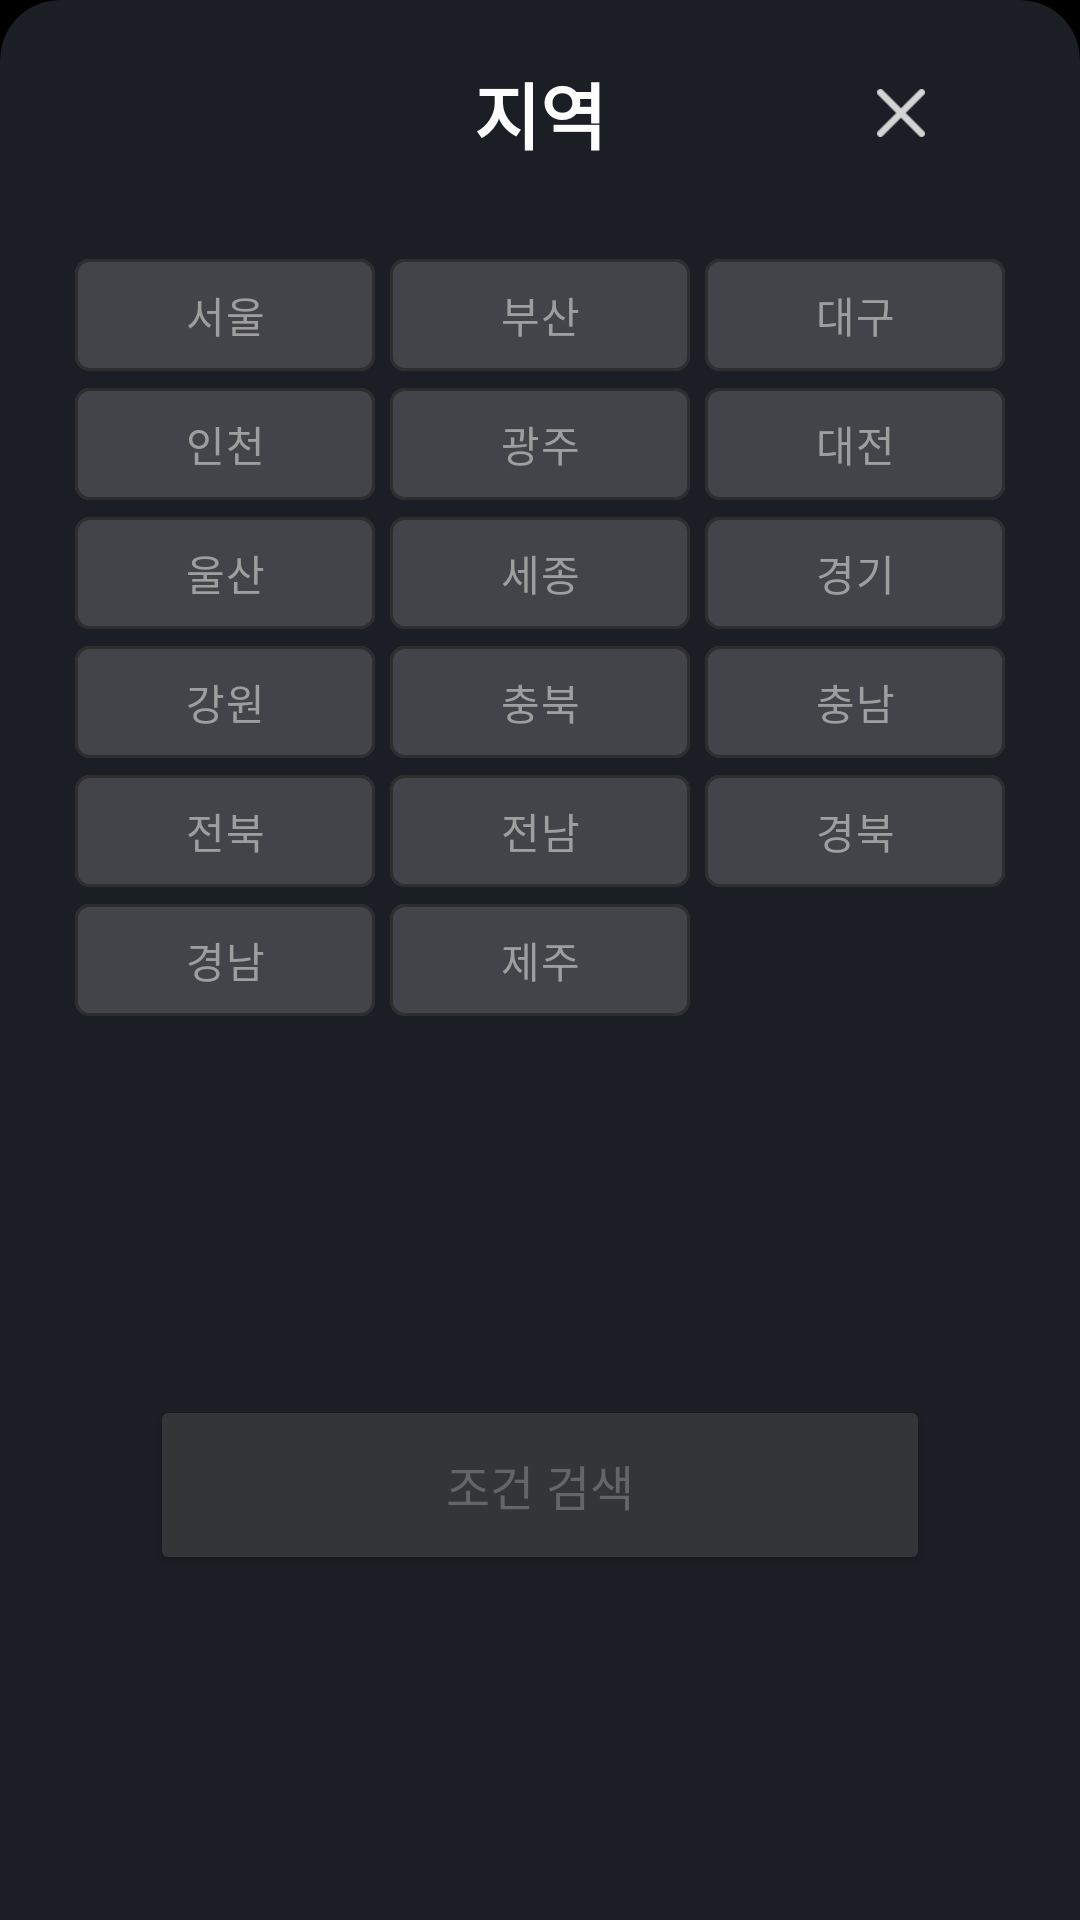

Icon bounding boxes for this 1080w x 1920h phone screenshot, format [x1=x1, y1=y1, x2=x2, y2=y2]:
searchfilter close: [x1=877, y1=89, x2=925, y2=137]
